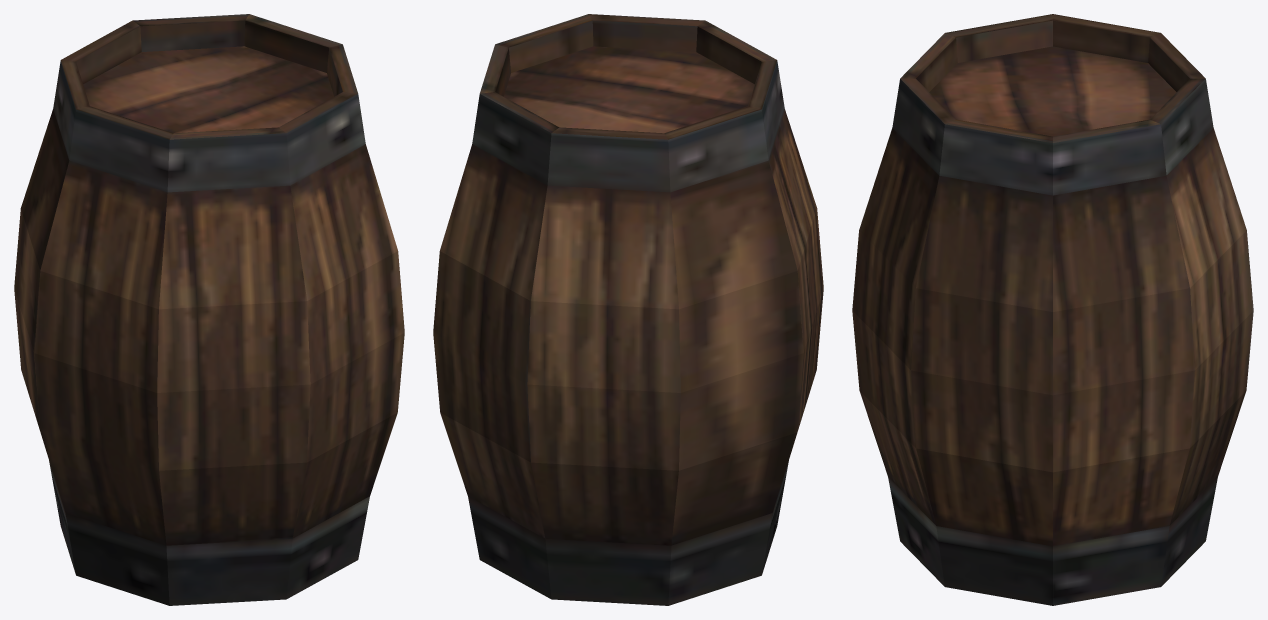
File: Scene_Rongyan_mutong.FBX
3 views of the same model, side by side, from view 1: azimuth 30°, elevation 25°; view 2: azimuth 150°, elevation 25°; view 3: azimuth 270°, elevation 25° (orthographic).
Parts seen in each view (by area): view 1: Scene_Rongyan_mutong; view 2: Scene_Rongyan_mutong; view 3: Scene_Rongyan_mutong.
Part boxes in pixels (x1=…): Scene_Rongyan_mutong: x1=14, y1=14, x2=404, y2=605; Scene_Rongyan_mutong: x1=433, y1=14, x2=823, y2=605; Scene_Rongyan_mutong: x1=852, y1=14, x2=1253, y2=605.
Bounding box in the file's own units: 1.87 × 2.37 × 1.87.
